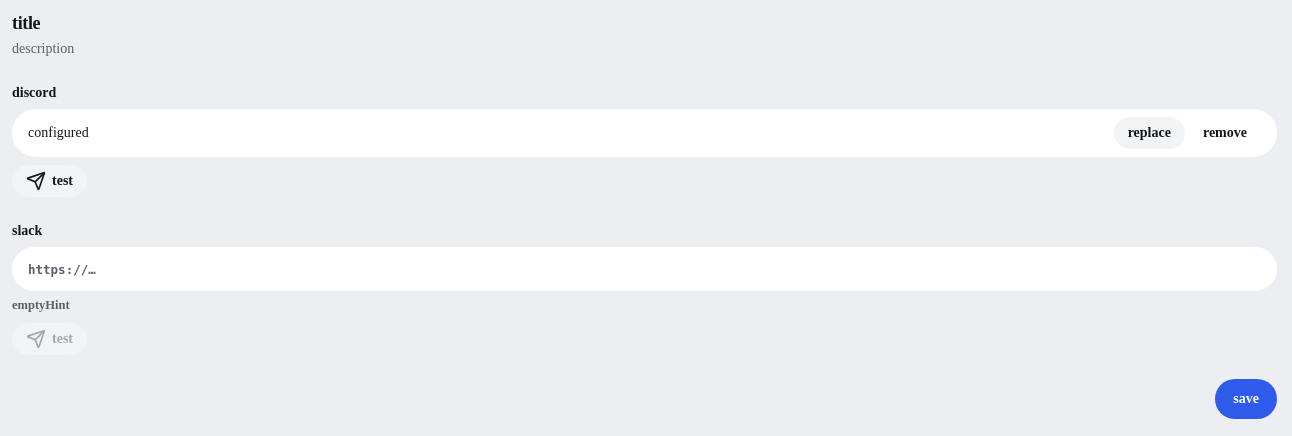
Scenario: StaffChannelSection › says a test failed, with the reason it gives
Click the button "test" below "configured" at (50, 181), box [12, 165, 87, 197]
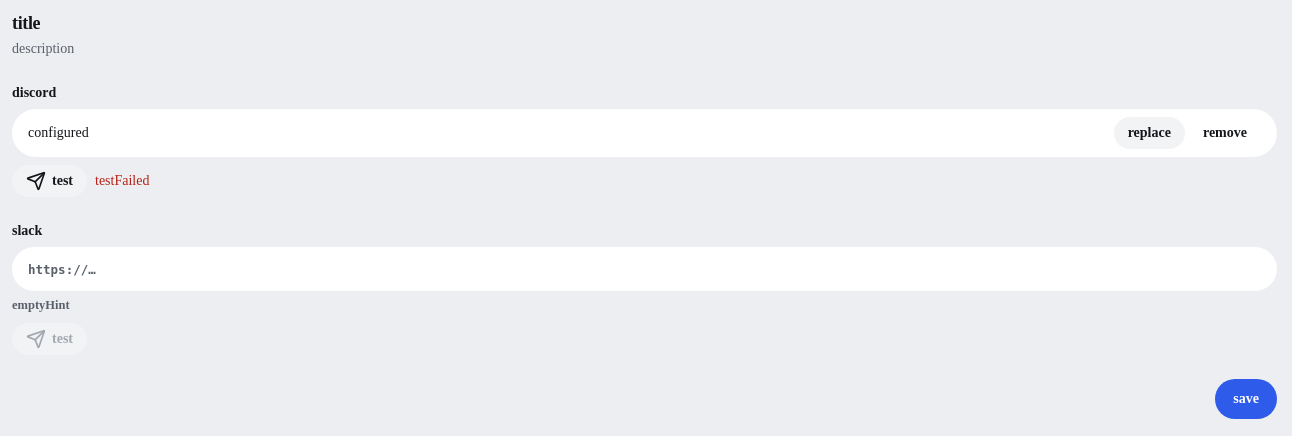
Now the message reads "testFailed", box [95, 173, 149, 188]
